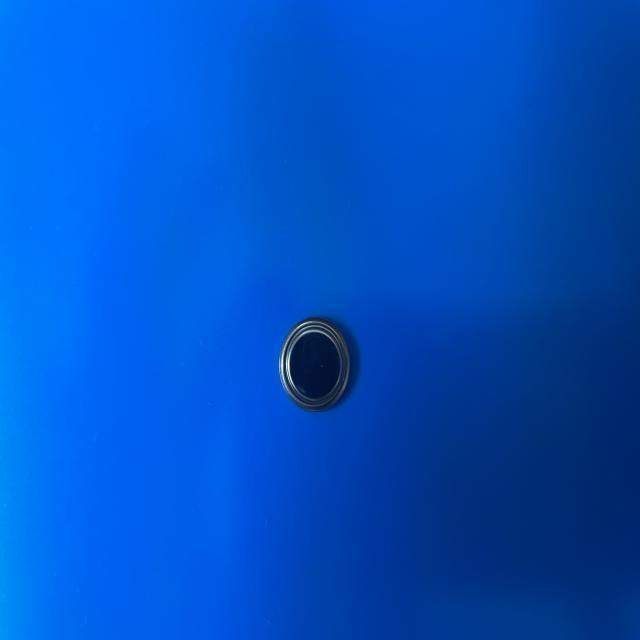COIN: (276, 314, 352, 416)
